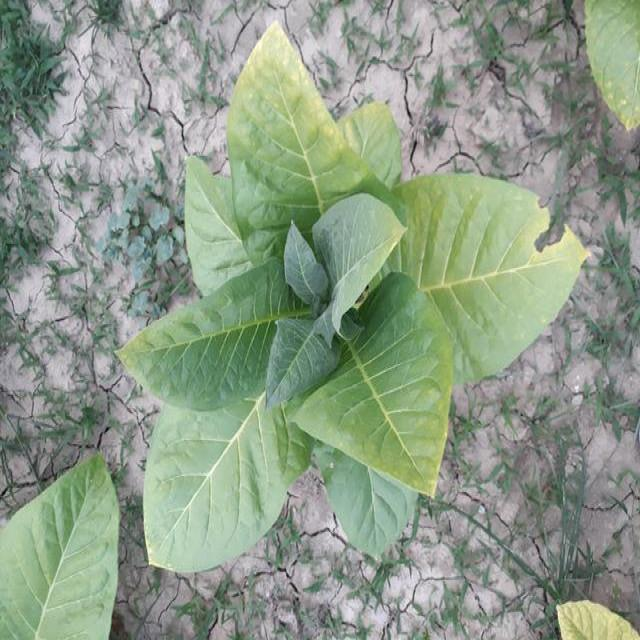crop: (146, 27, 576, 561), (0, 449, 119, 640)
